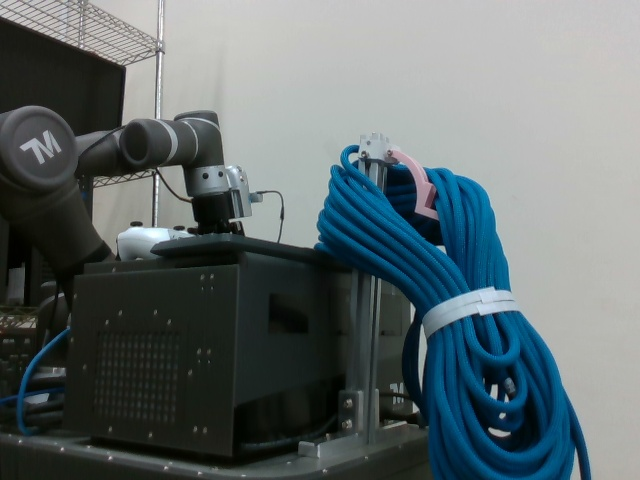rope: (312, 143, 593, 480)
